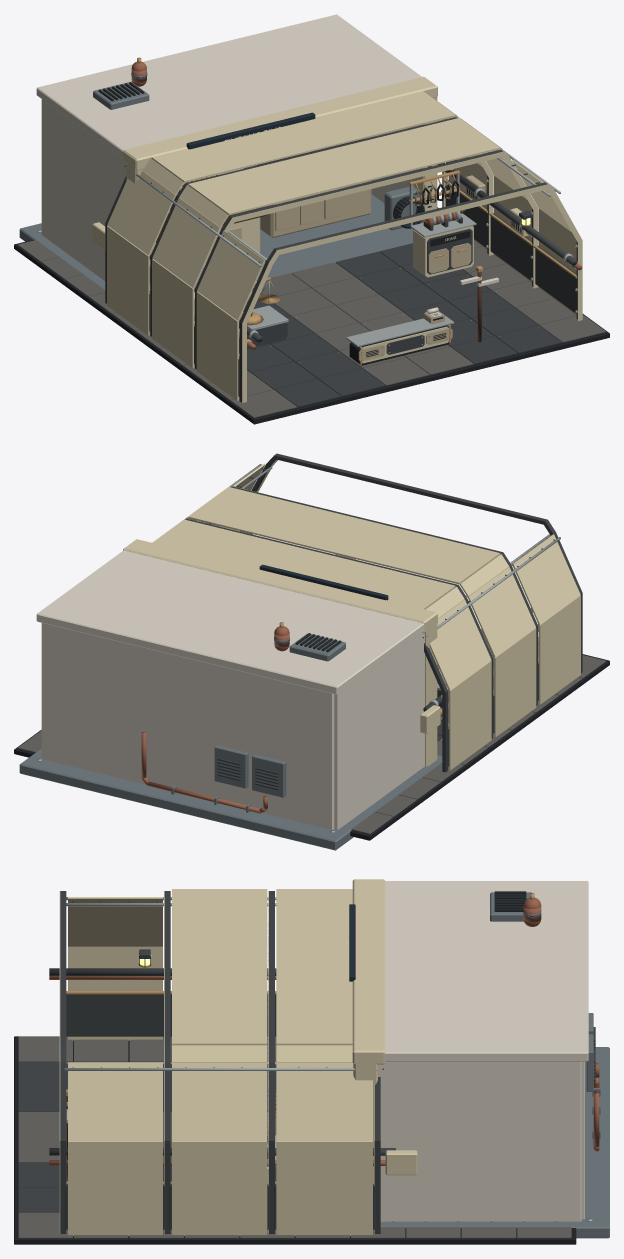
The model's file is calibration-spire-outfit.glb.
3 views of the same model, one above another, from view 1: azimuth 30°, elevation 25°; view 2: azimuth 150°, elevation 25°; view 3: azimuth 270°, elevation 25° (orthographic). The views are drawn at different scales.
Visible parts, largest first — view 1: calibration-spire-outfit; view 2: calibration-spire-outfit; view 3: calibration-spire-outfit.
Part boxes in pixels (x1,y1,x2,y2): calibration-spire-outfit: (14,14,609,424); calibration-spire-outfit: (14,453,609,850); calibration-spire-outfit: (14,879,609,1244).
Bounding box in the file's own units: 17.08 × 8.36 × 21.15.
Materials: 19 (16 with a texture image).
